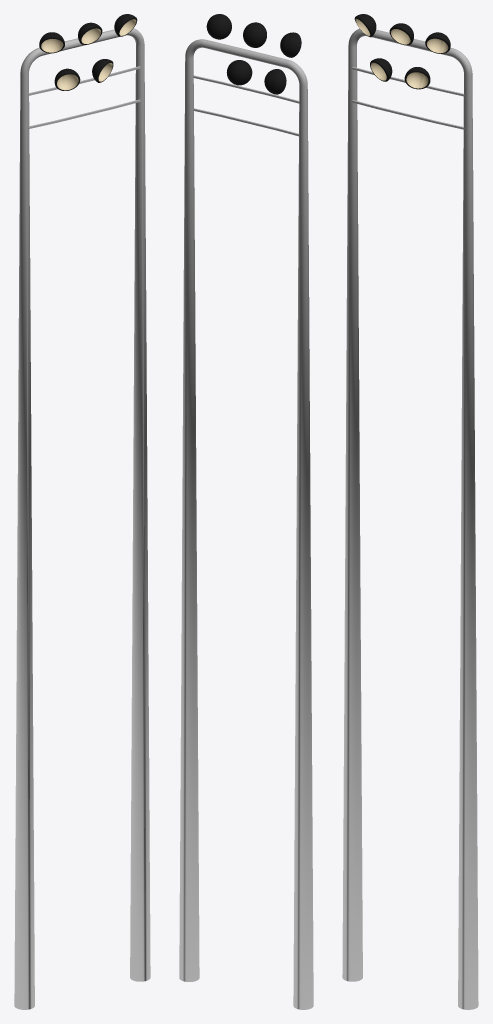
Rendered from OERKoldterminalmast2.gltf.
3 views of the same model, side by side, from view 1: azimuth 30°, elevation 25°; view 2: azimuth 150°, elevation 25°; view 3: azimuth 330°, elevation 25° (orthographic).
Visible parts, largest first — view 1: Cube.001; view 2: Cube.001; view 3: Cube.001.
Boxes of the visible parts, x1,y1,x2,y2 form: Cube.001: (14,14,150,1009); Cube.001: (179,14,313,1009); Cube.001: (342,14,478,1009).
Size of what is drawn, in the model's own units: 5.34 by 37.27 by 1.21.
